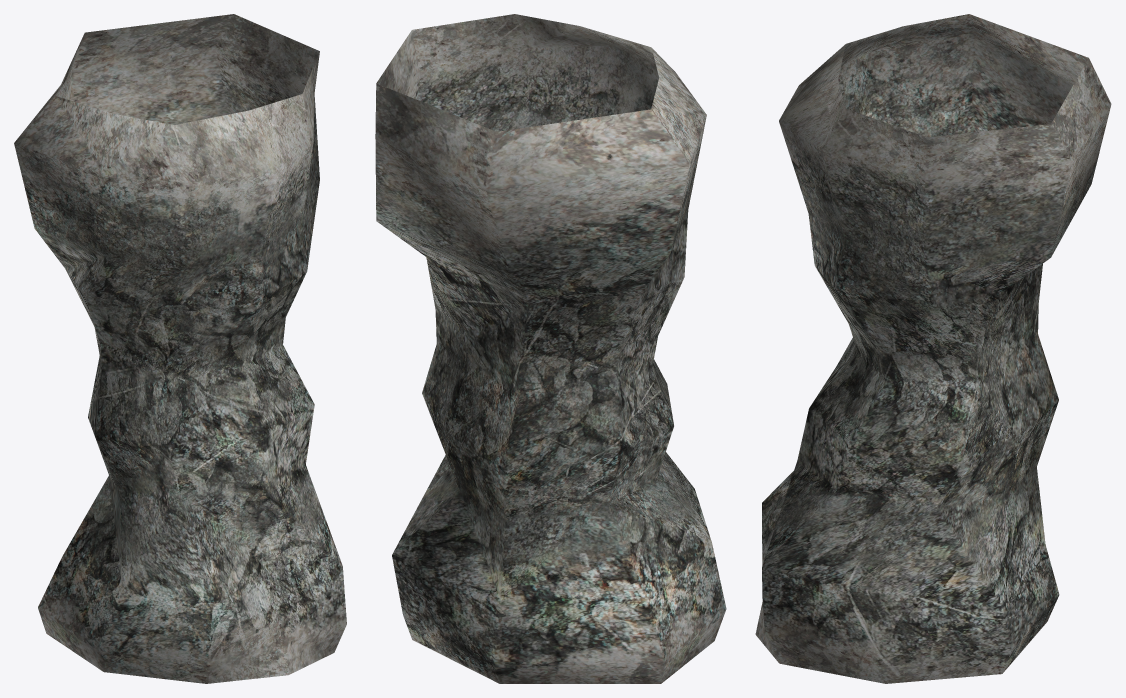
Rendered from CaveWallPillar1.DAE.
3 renders of one model, left to right at view 1: azimuth 30°, elevation 25°; view 2: azimuth 150°, elevation 25°; view 3: azimuth 270°, elevation 25°, orthographic. The views are drawn at different scales.
Parts seen in each view (by area): view 1: mansionbase_default; view 2: mansionbase_default; view 3: mansionbase_default.
Part boxes in pixels (x1,y1,x2,y2): mansionbase_default: [14, 14, 346, 683]; mansionbase_default: [375, 14, 726, 683]; mansionbase_default: [755, 14, 1111, 683].
Bounding box in the file's own units: 2.21 × 4 × 2.33.
